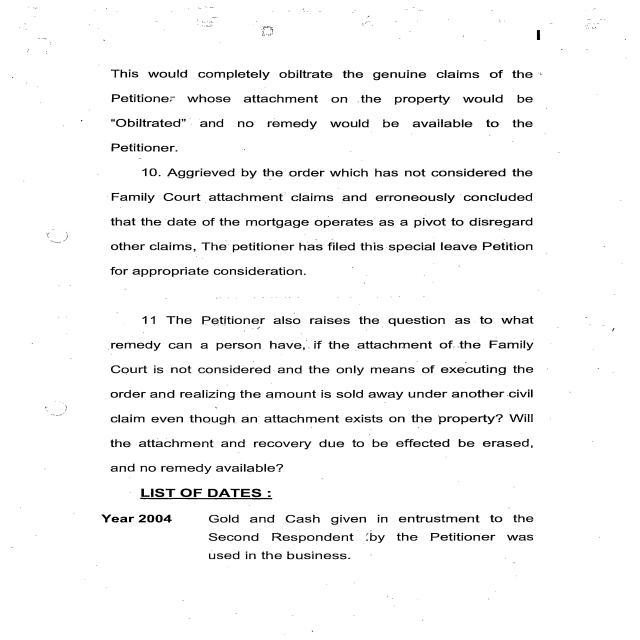page-number: (384, 0, 638, 67)
